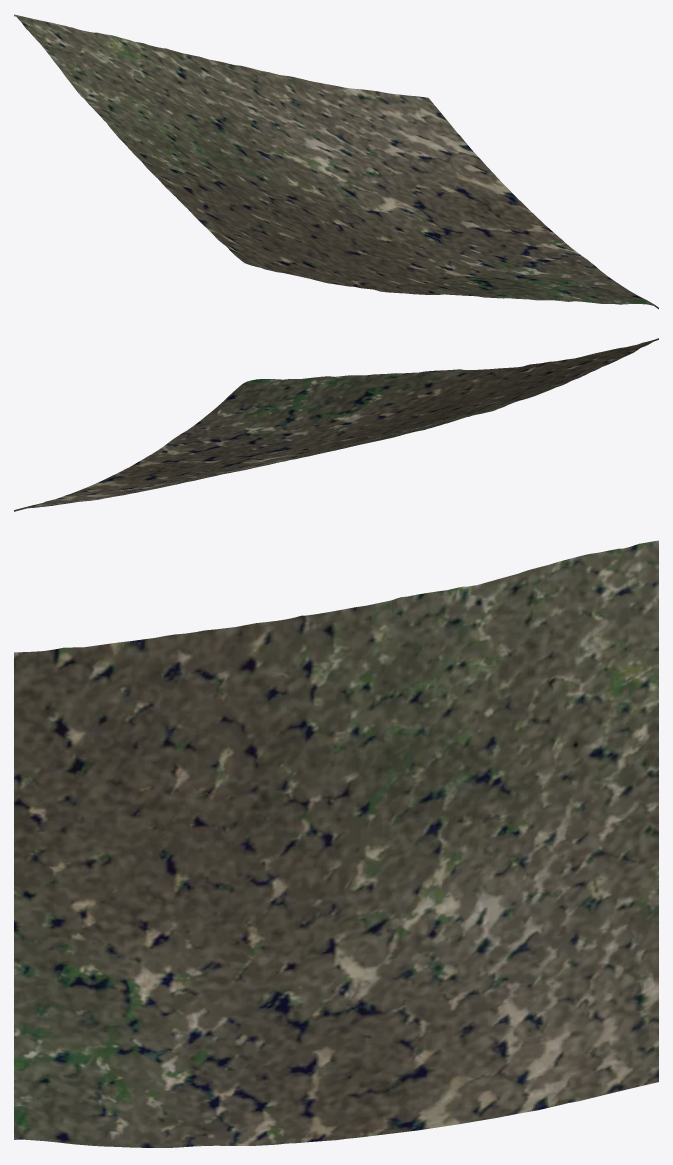
3 views of the same model, one above another, from view 1: azimuth 30°, elevation 25°; view 2: azimuth 150°, elevation 25°; view 3: azimuth 270°, elevation 25° (orthographic). The views are drawn at different scales.
Size of the model in its own units: 250 by 135 by 241.
Materials: 1 (1 with a texture image).
